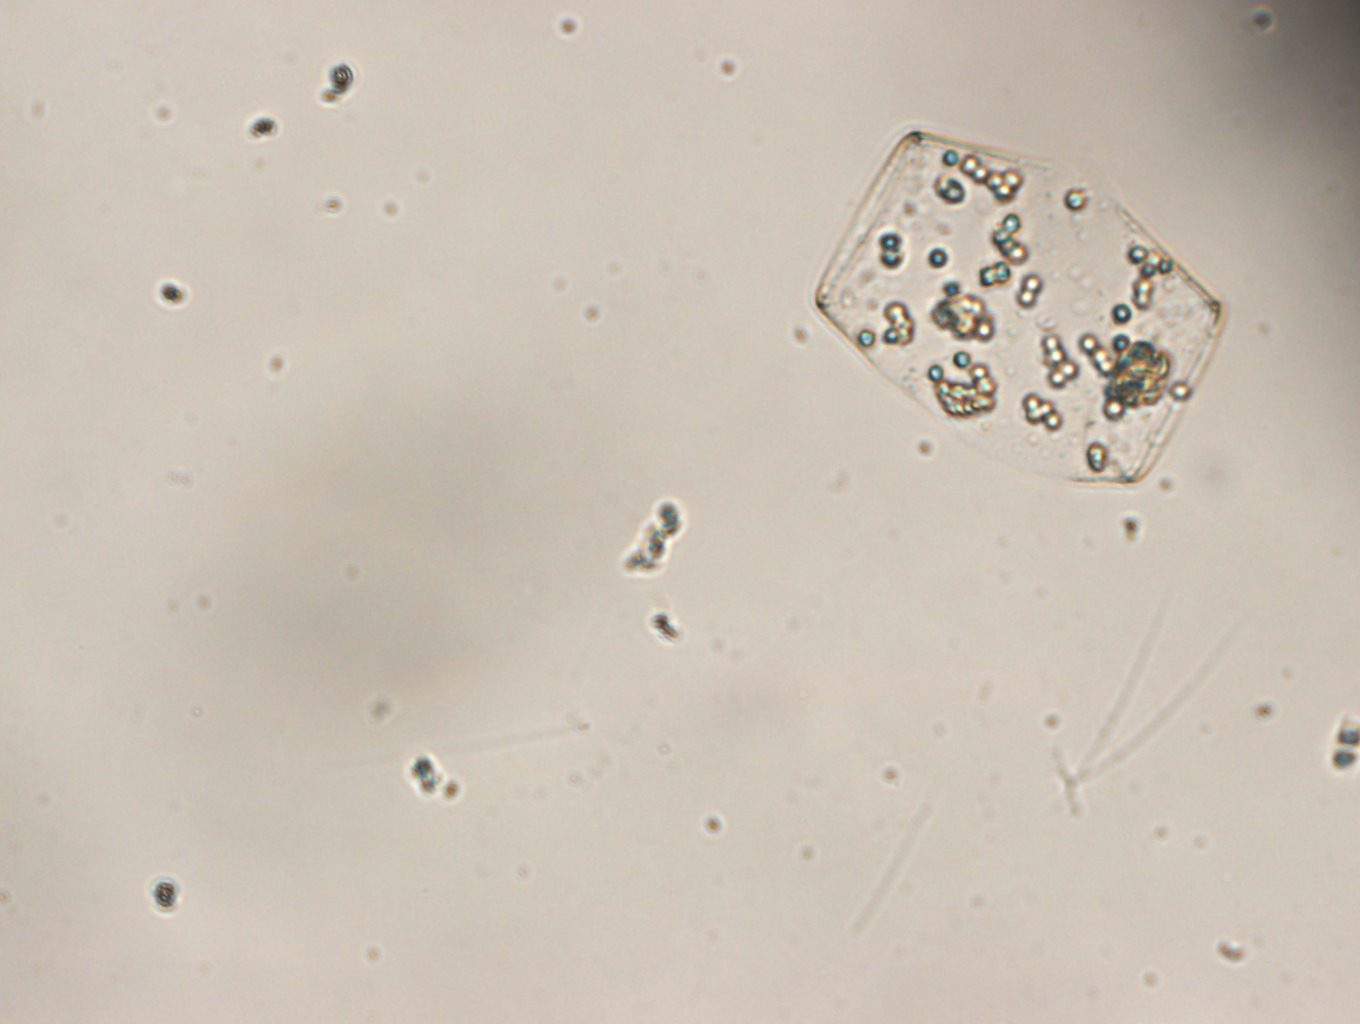guinardia flaccida: (808, 111, 1231, 500)
